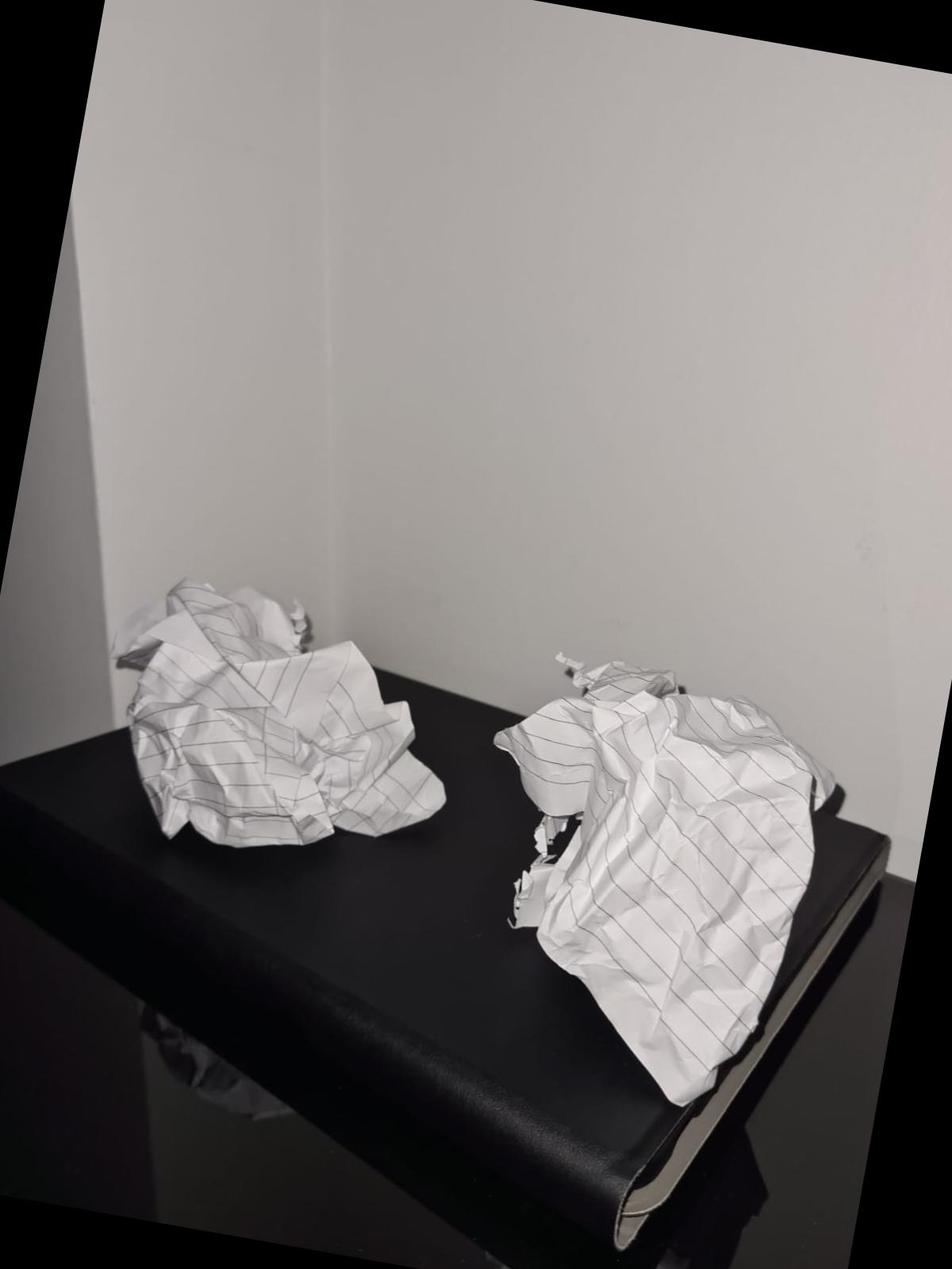Kertas: (495, 658, 831, 1103), (114, 580, 444, 848)
